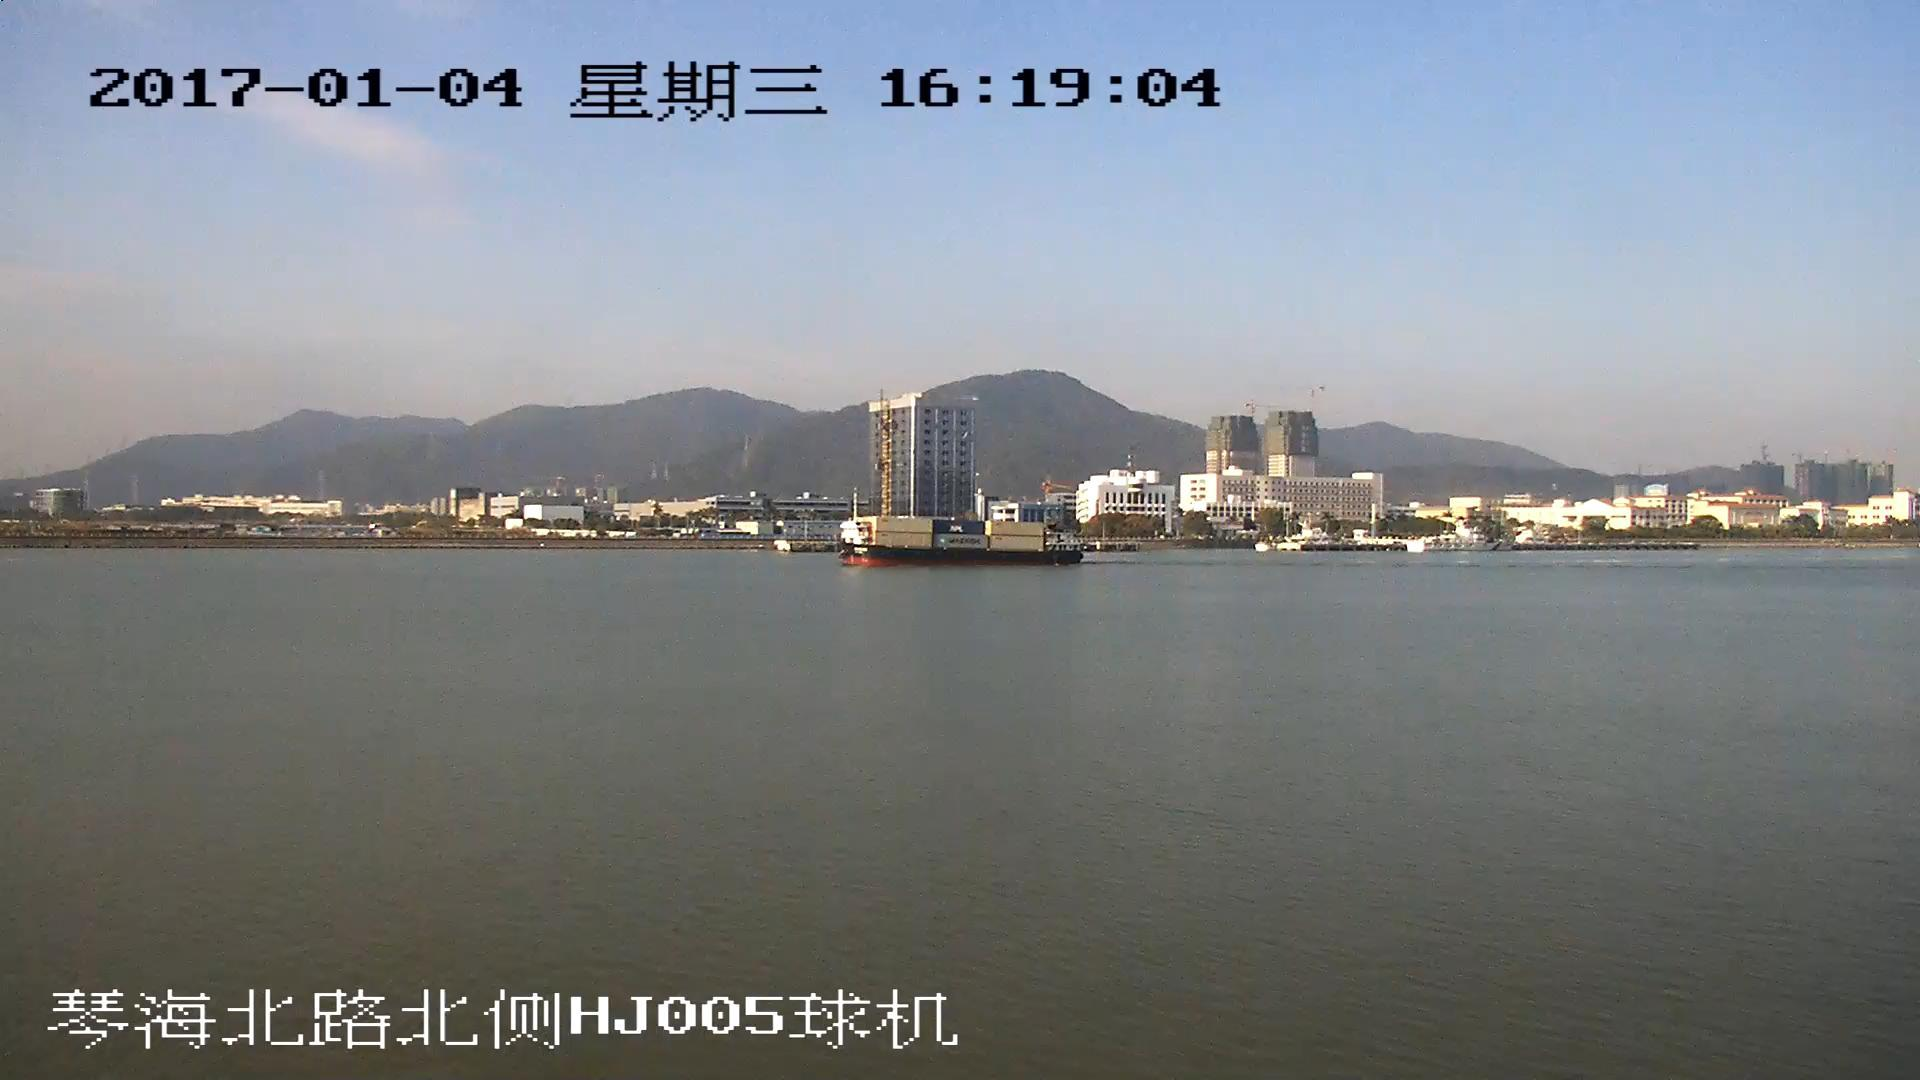Ship: (843, 517, 1083, 567)
